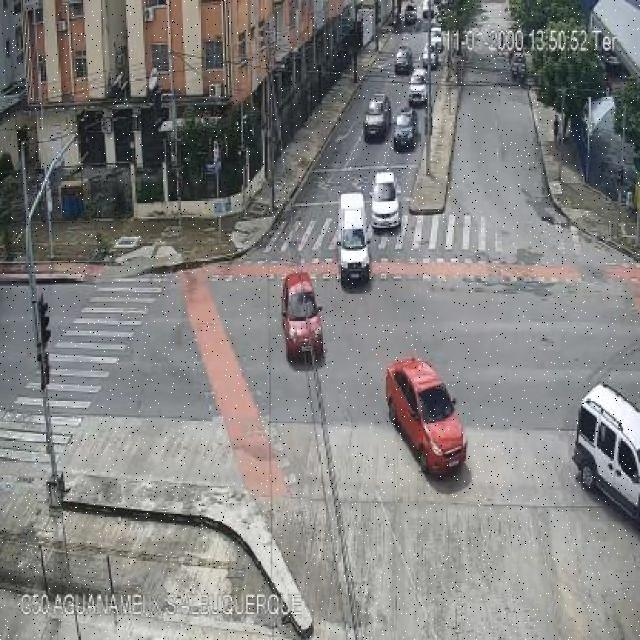Car: (385, 358, 467, 476), (280, 272, 328, 364), (370, 171, 401, 228), (363, 93, 391, 140), (393, 108, 418, 150), (408, 70, 429, 104), (394, 46, 414, 75), (509, 53, 526, 81), (428, 26, 443, 52), (403, 4, 418, 25)
Van: (337, 194, 371, 286)
